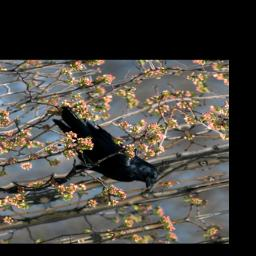Crow: (23, 96, 170, 208)
